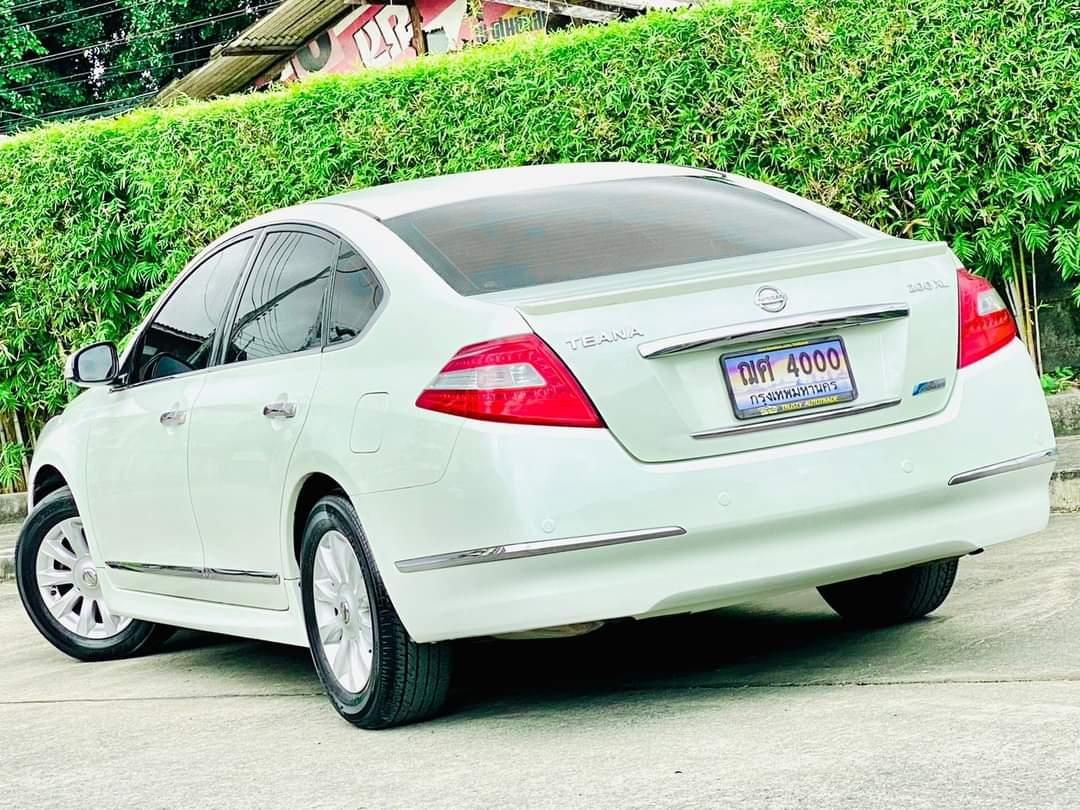license-plate: (718, 335, 858, 424)
